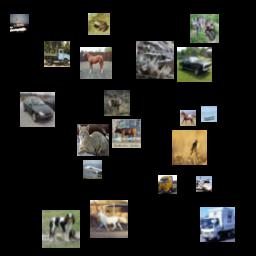airplane: (83, 160, 102, 179), (196, 176, 212, 192)
automobile: (177, 47, 212, 82), (20, 92, 55, 127)
bird: (172, 130, 207, 165)
cat: (77, 124, 109, 156), (190, 14, 219, 43)
deer: (112, 119, 141, 148), (104, 90, 130, 116)
dog: (42, 210, 80, 248)
frog: (136, 41, 174, 79), (88, 13, 110, 35)
ship: (10, 14, 29, 33), (201, 106, 217, 122)
truck: (200, 207, 235, 242), (44, 41, 70, 67), (158, 175, 177, 194)
